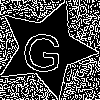G: (21, 24, 64, 73)
